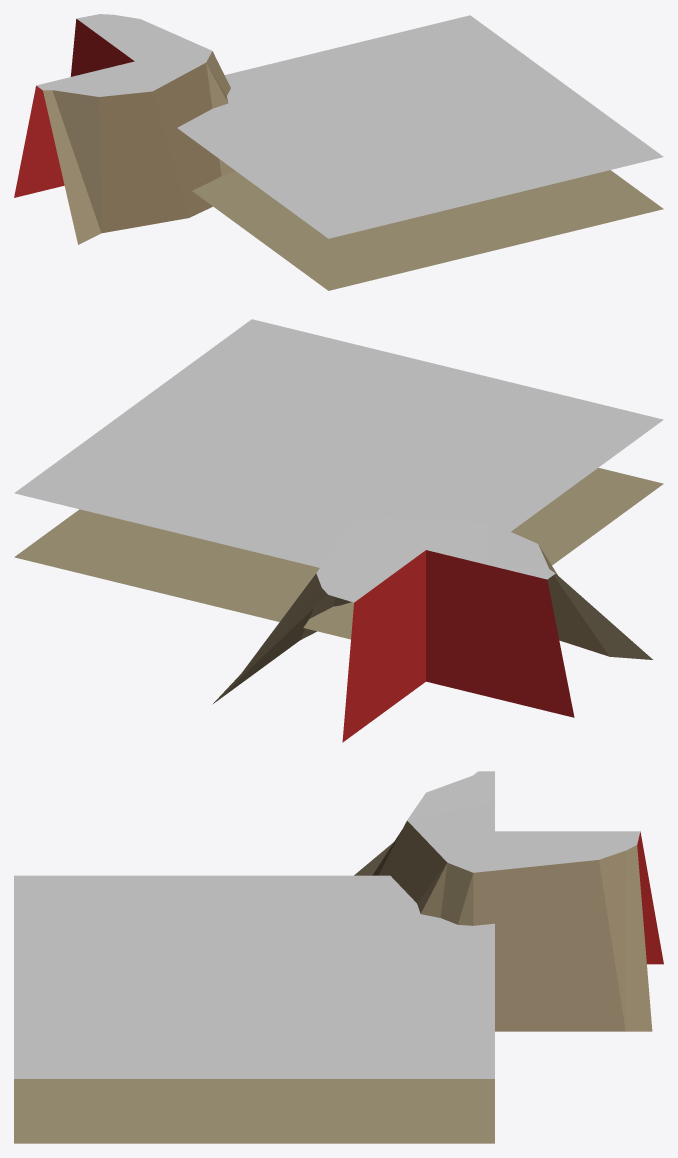
File: Model_Tile_River_4W_1GTR.fbx
3 views of the same model, one above another, from view 1: azimuth 30°, elevation 25°; view 2: azimuth 150°, elevation 25°; view 3: azimuth 270°, elevation 25° (orthographic). The views are drawn at different scales.
Visible parts, largest first — view 1: Model_Frost_Rivers1; view 2: Model_Frost_Rivers1; view 3: Model_Frost_Rivers1.
Part boxes in pixels (box(x1,y1,x2,y2)): Model_Frost_Rivers1: box(14, 14, 663, 290); Model_Frost_Rivers1: box(14, 319, 663, 742); Model_Frost_Rivers1: box(14, 771, 663, 1143).
Bounding box in the file's own units: 272 × 61.13 × 270.
